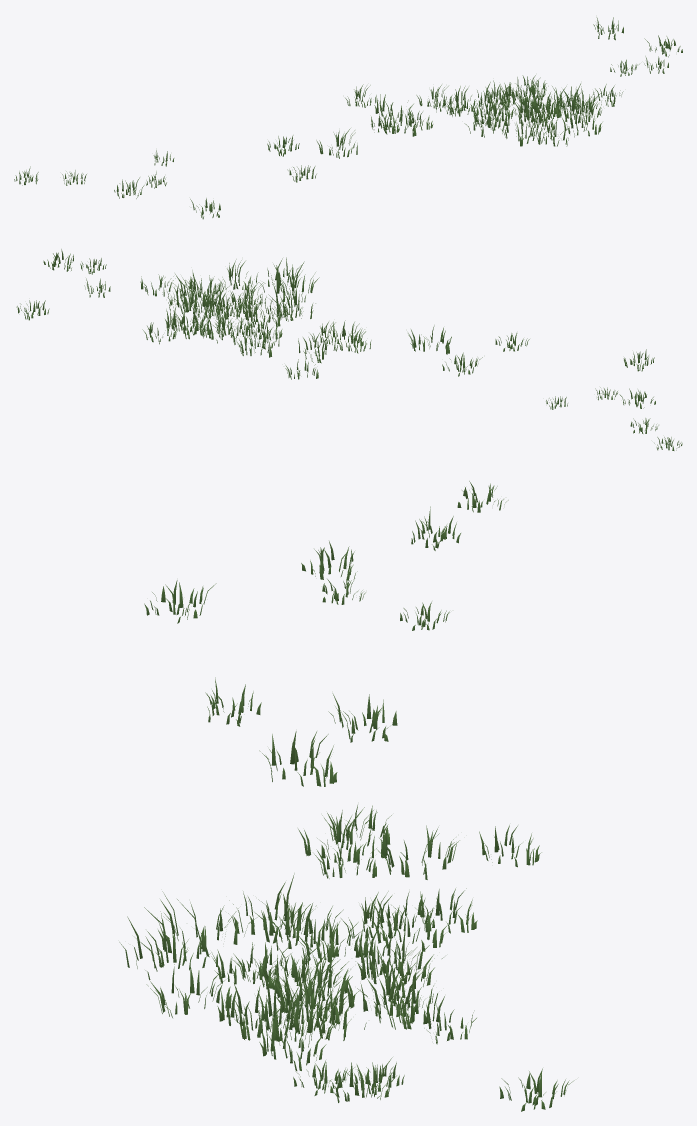
The model's file is P2N_forest_grass_-8_4.glb.
The picture shows the model from 3 angles, top to bottom: view 1: azimuth 30°, elevation 25°; view 2: azimuth 150°, elevation 25°; view 3: azimuth 270°, elevation 25°; orthographic projection. The views are drawn at different scales.
Visible parts, largest first — view 1: P2N_forest_grass_-8_4; view 2: P2N_forest_grass_-8_4; view 3: P2N_forest_grass_-8_4.
Boxes of the visible parts, x1=… form: P2N_forest_grass_-8_4: x1=14, y1=17, x2=682, y2=219; P2N_forest_grass_-8_4: x1=16, y1=249, x2=682, y2=450; P2N_forest_grass_-8_4: x1=119, y1=481, x2=574, y2=1111.
Size of the model in its own units: 21.73 by 1.23 by 6.87.
